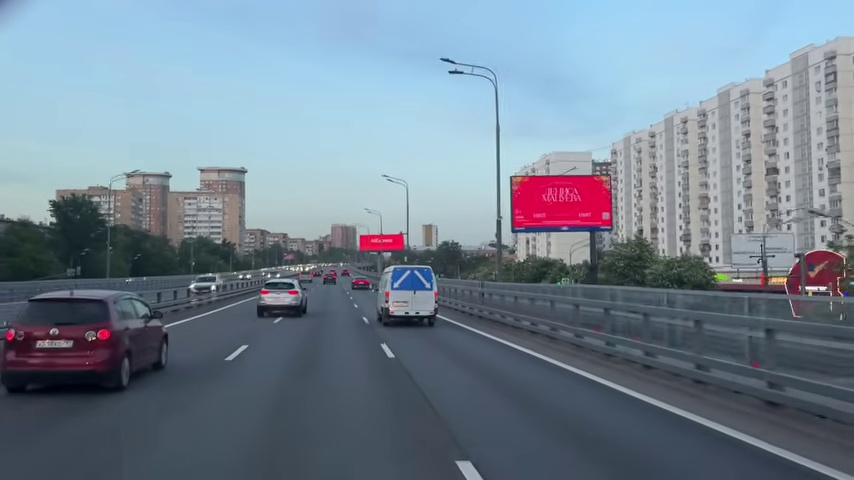apagada: (437, 54, 464, 78), (380, 172, 395, 187)
